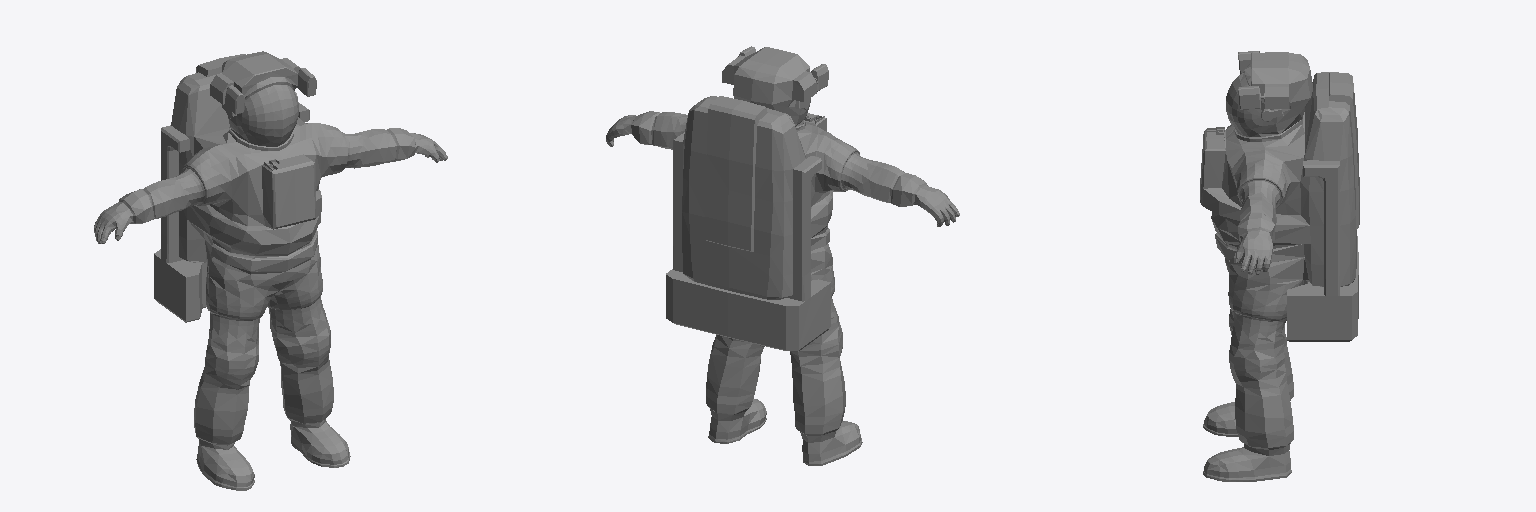
Rendered from astronaut1.obj.
3 renders of one model, left to right at view 1: azimuth 30°, elevation 25°; view 2: azimuth 150°, elevation 25°; view 3: azimuth 270°, elevation 25°, orthographic.
Parts seen in each view (by area): view 1: astronaut1_0; view 2: astronaut1_0; view 3: astronaut1_0.
Boxes of the visible parts, box(x1,y1,x2,y2) form: astronaut1_0: box(94, 51, 447, 490); astronaut1_0: box(606, 46, 959, 465); astronaut1_0: box(1200, 51, 1359, 481).
Size of the model in its own units: 68.91 by 74.26 by 27.6.